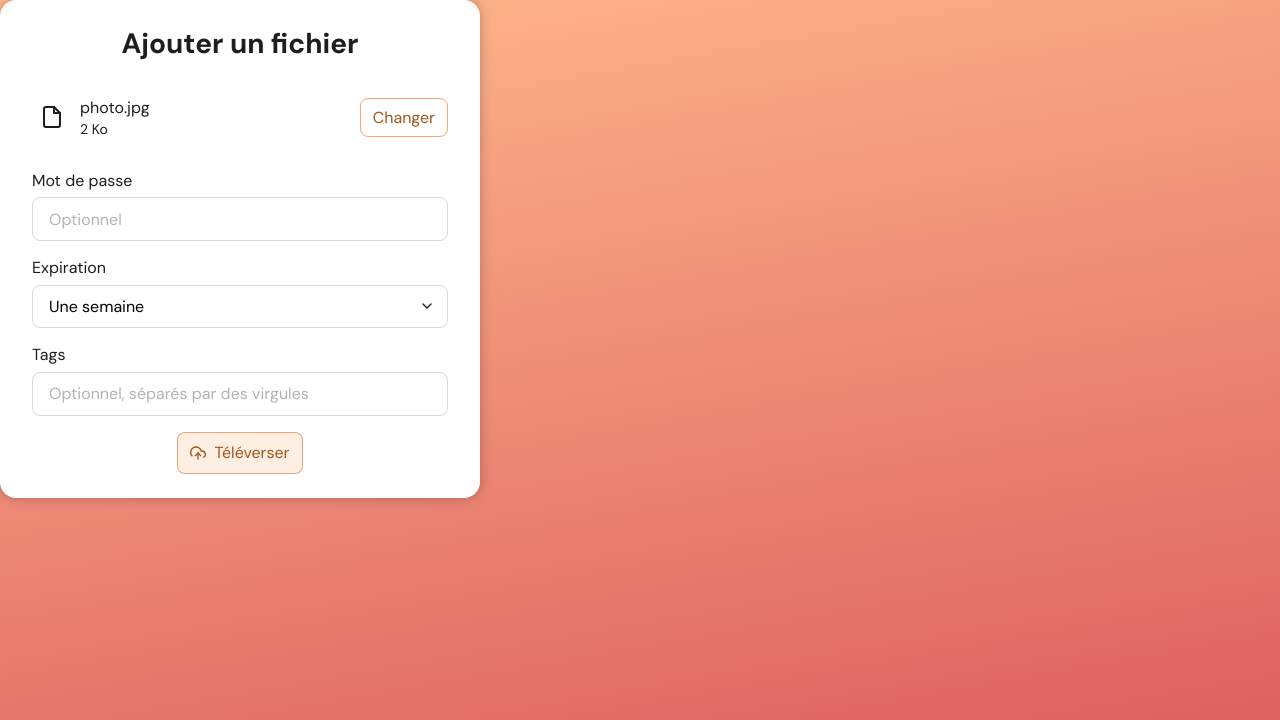
Test: Carte « Ajouter un fichier » › envoie le fichier, la durée, le mot de passe et les tags, puis affiche le lien
The width and height of the screenshot is (1280, 720).
Type "secret1" into the password field labelled "Mot de passe" at (240, 219), box [32, 197, 448, 241]
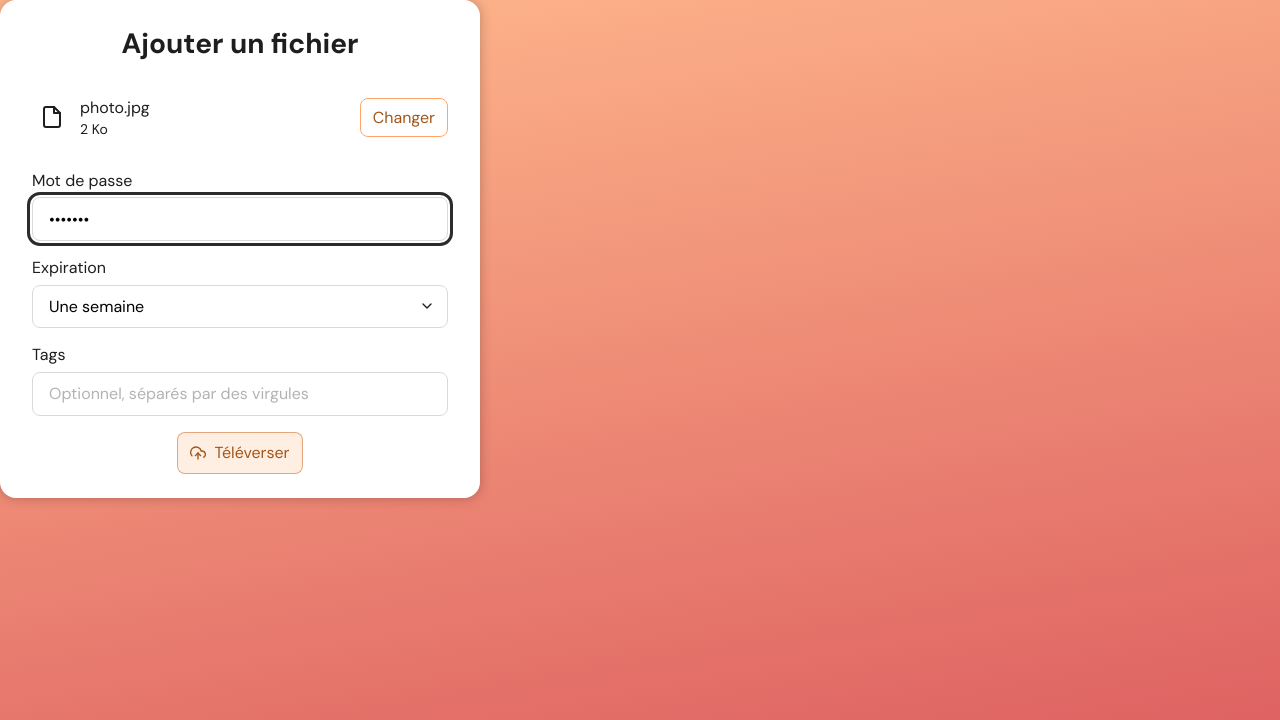
Select "Trois jours" in the dropdown labelled "Expiration" at (240, 306), box [32, 285, 448, 328]
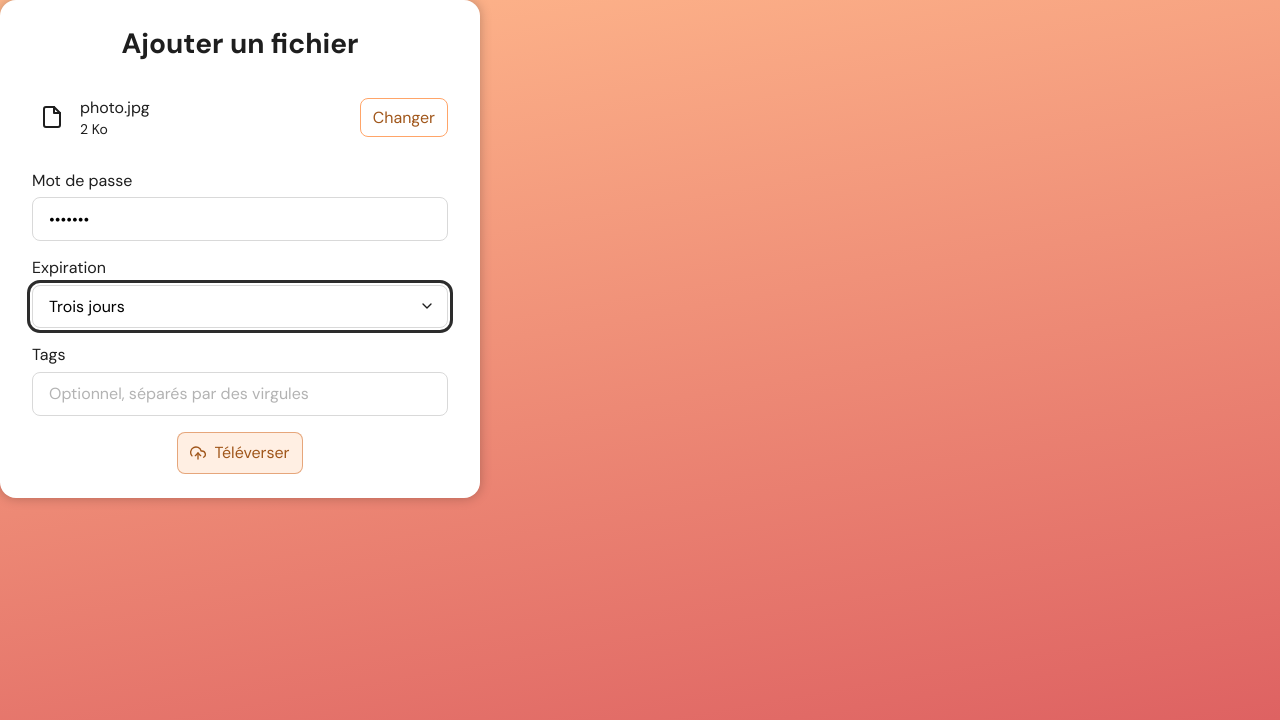
Type "vacances, photos" into the field labelled "Tags" at (240, 394), box [32, 372, 448, 416]
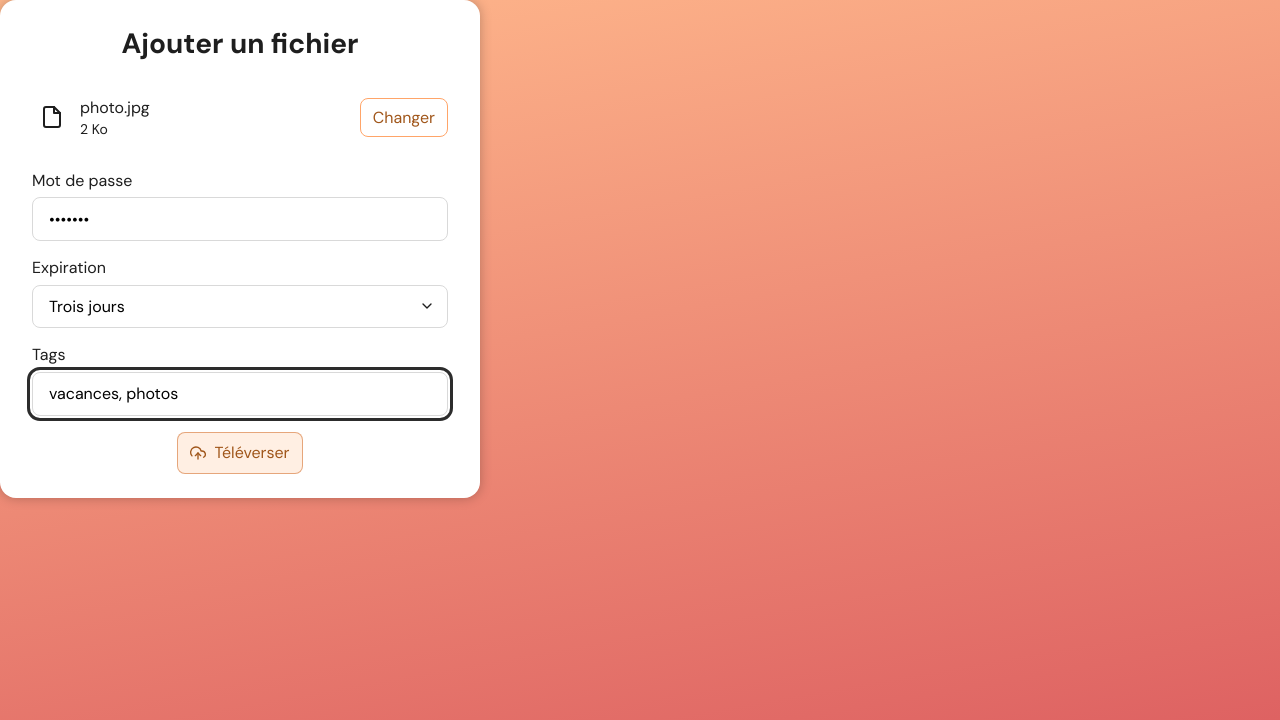
Click the button "Téléverser" at (240, 452), box [178, 432, 302, 474]
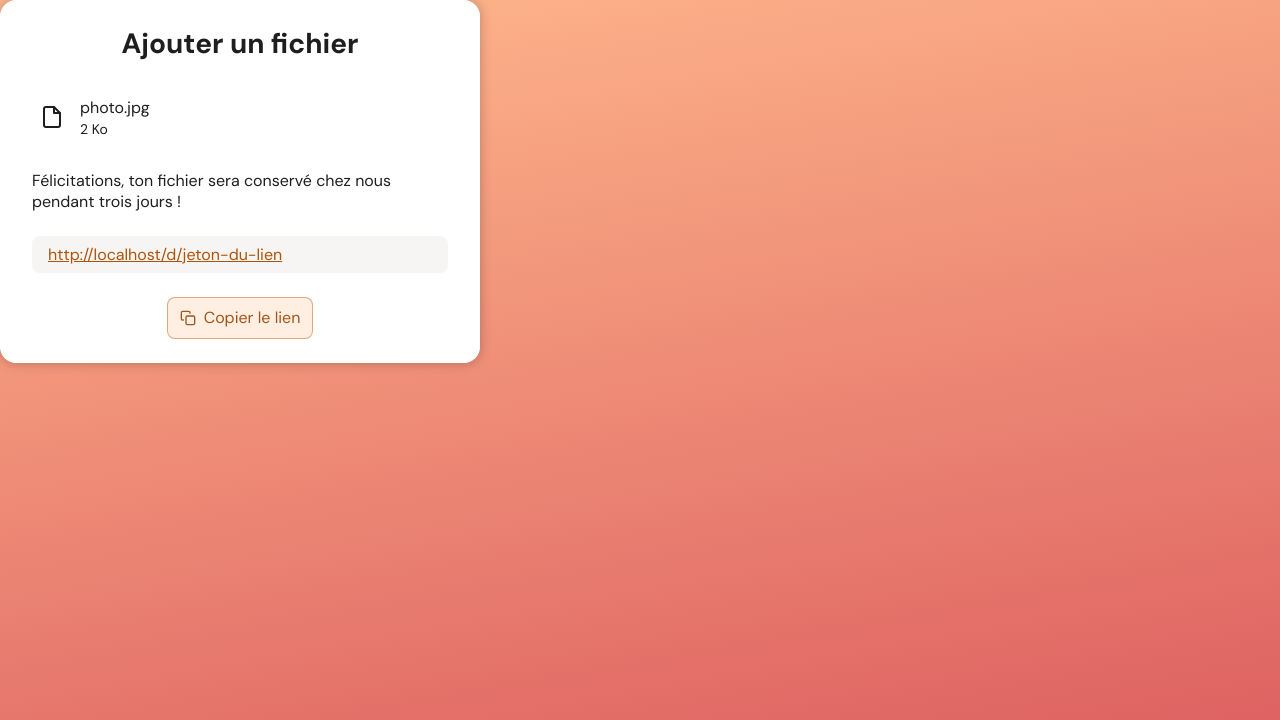
expect the text "Félicitations, ton fichier sera conservé chez nous pendant trois jours !" is shown: met, box [32, 170, 448, 212]
expect the link "http://localhost/d/jeton-du-lien" is shown: met, box [32, 236, 448, 273]
expect the button "Copier le lien" is shown: met, box [167, 297, 313, 339]
